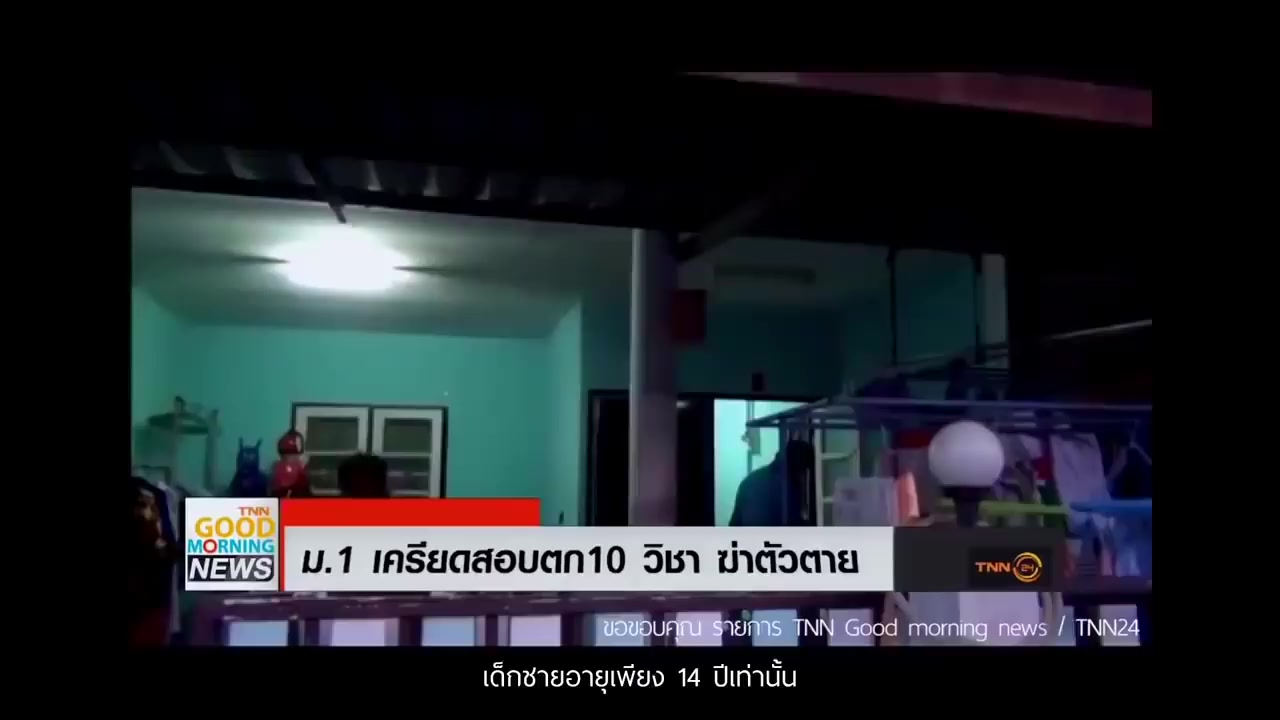text-label: (295, 538, 863, 574), (477, 657, 800, 698)
